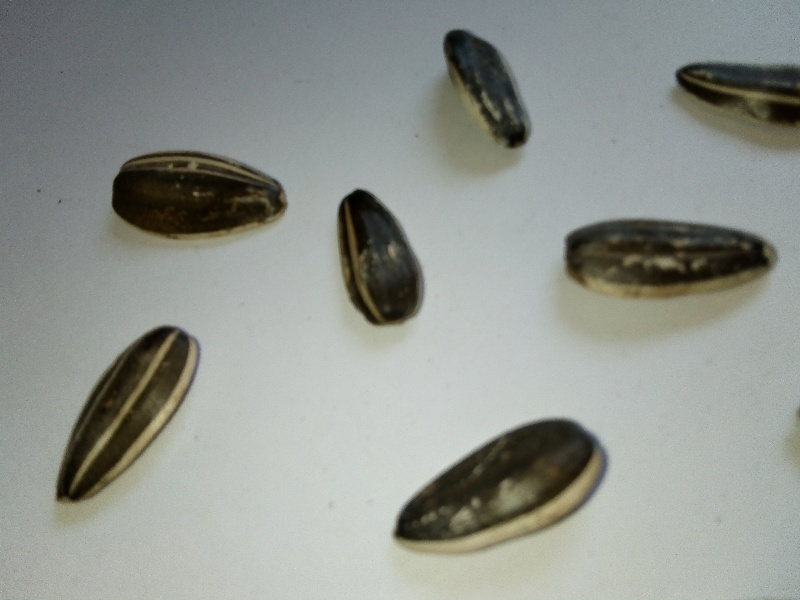girasol: (385, 406, 617, 564), (46, 313, 207, 519), (550, 210, 790, 303), (101, 147, 297, 242), (330, 180, 431, 337), (432, 17, 541, 159)
